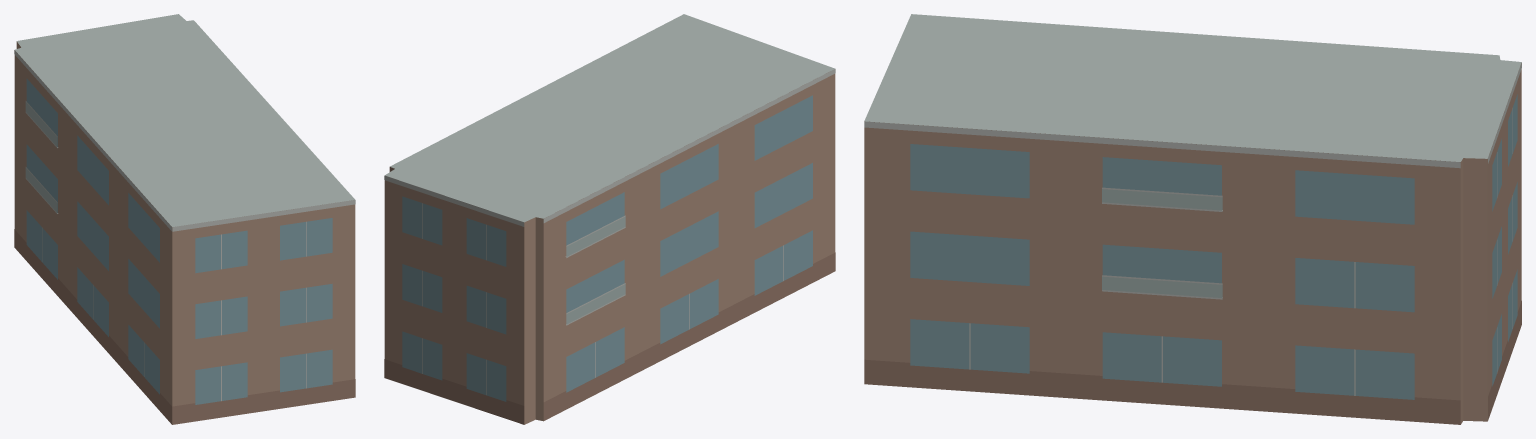
Rendered from survey-upis-32761028.glb.
3 views of the same model, side by side, from view 1: azimuth 30°, elevation 25°; view 2: azimuth 150°, elevation 25°; view 3: azimuth 270°, elevation 25° (orthographic). The views are drawn at different scales.
Visible parts, largest first — view 1: survey-upis-32761028.tmp; view 2: survey-upis-32761028.tmp; view 3: survey-upis-32761028.tmp.
Part boxes in pixels (box(x1,y1,x2,y2)): survey-upis-32761028.tmp: box(14, 14, 355, 424); survey-upis-32761028.tmp: box(384, 14, 835, 424); survey-upis-32761028.tmp: box(864, 14, 1521, 424).
Size of the model in its own units: 12.71 by 10.5 by 23.83.
